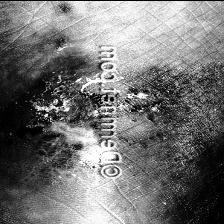Toxin: (26, 86, 100, 166)
